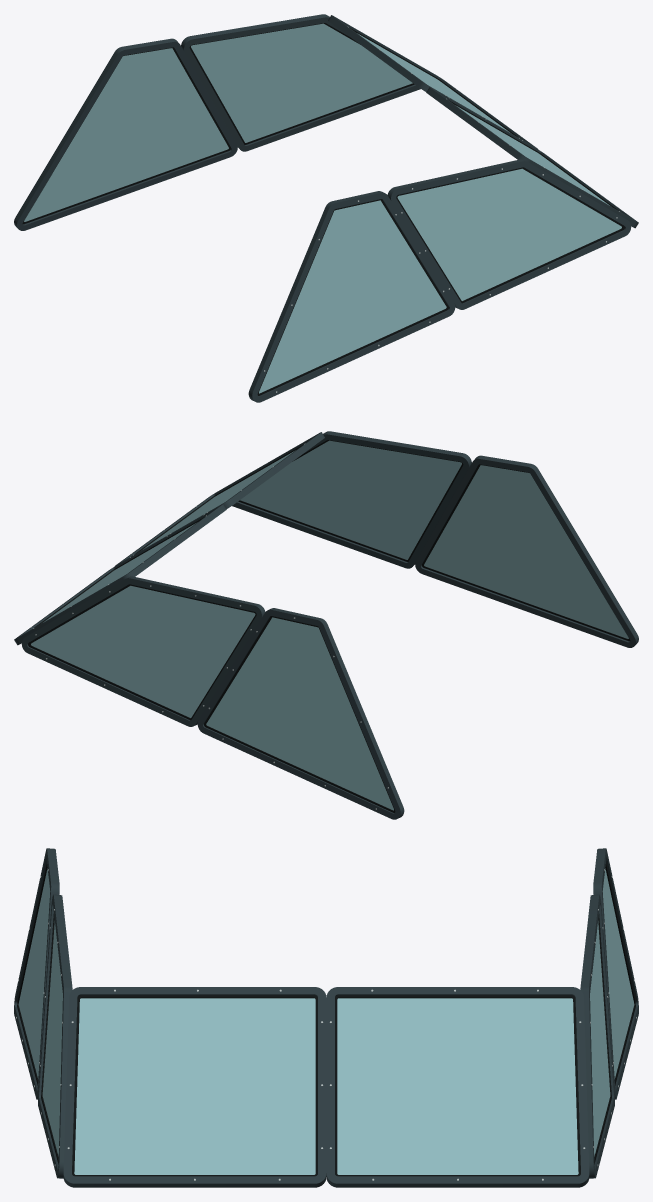
File: cabin-cruiser-windshield.glb
3 views of the same model, one above another, from view 1: azimuth 30°, elevation 25°; view 2: azimuth 150°, elevation 25°; view 3: azimuth 270°, elevation 25° (orthographic). The views are drawn at different scales.
Parts seen in each view (by area): view 1: Glazing, Frame, Gasket; view 2: Glazing, Frame, Gasket; view 3: Glazing, Frame, Gasket.
Boxes of the visible parts, x1,y1,x2,y2 form: Glazing: (24, 23, 621, 393); Frame: (14, 14, 638, 402); Gasket: (22, 23, 624, 395); Glazing: (31, 440, 628, 810); Frame: (14, 431, 638, 819); Gasket: (28, 440, 630, 812); Glazing: (18, 868, 634, 1174); Frame: (14, 848, 638, 1187); Gasket: (17, 864, 635, 1176).
Size of the model in its own units: 1.99 by 0.7897 by 2.02.
